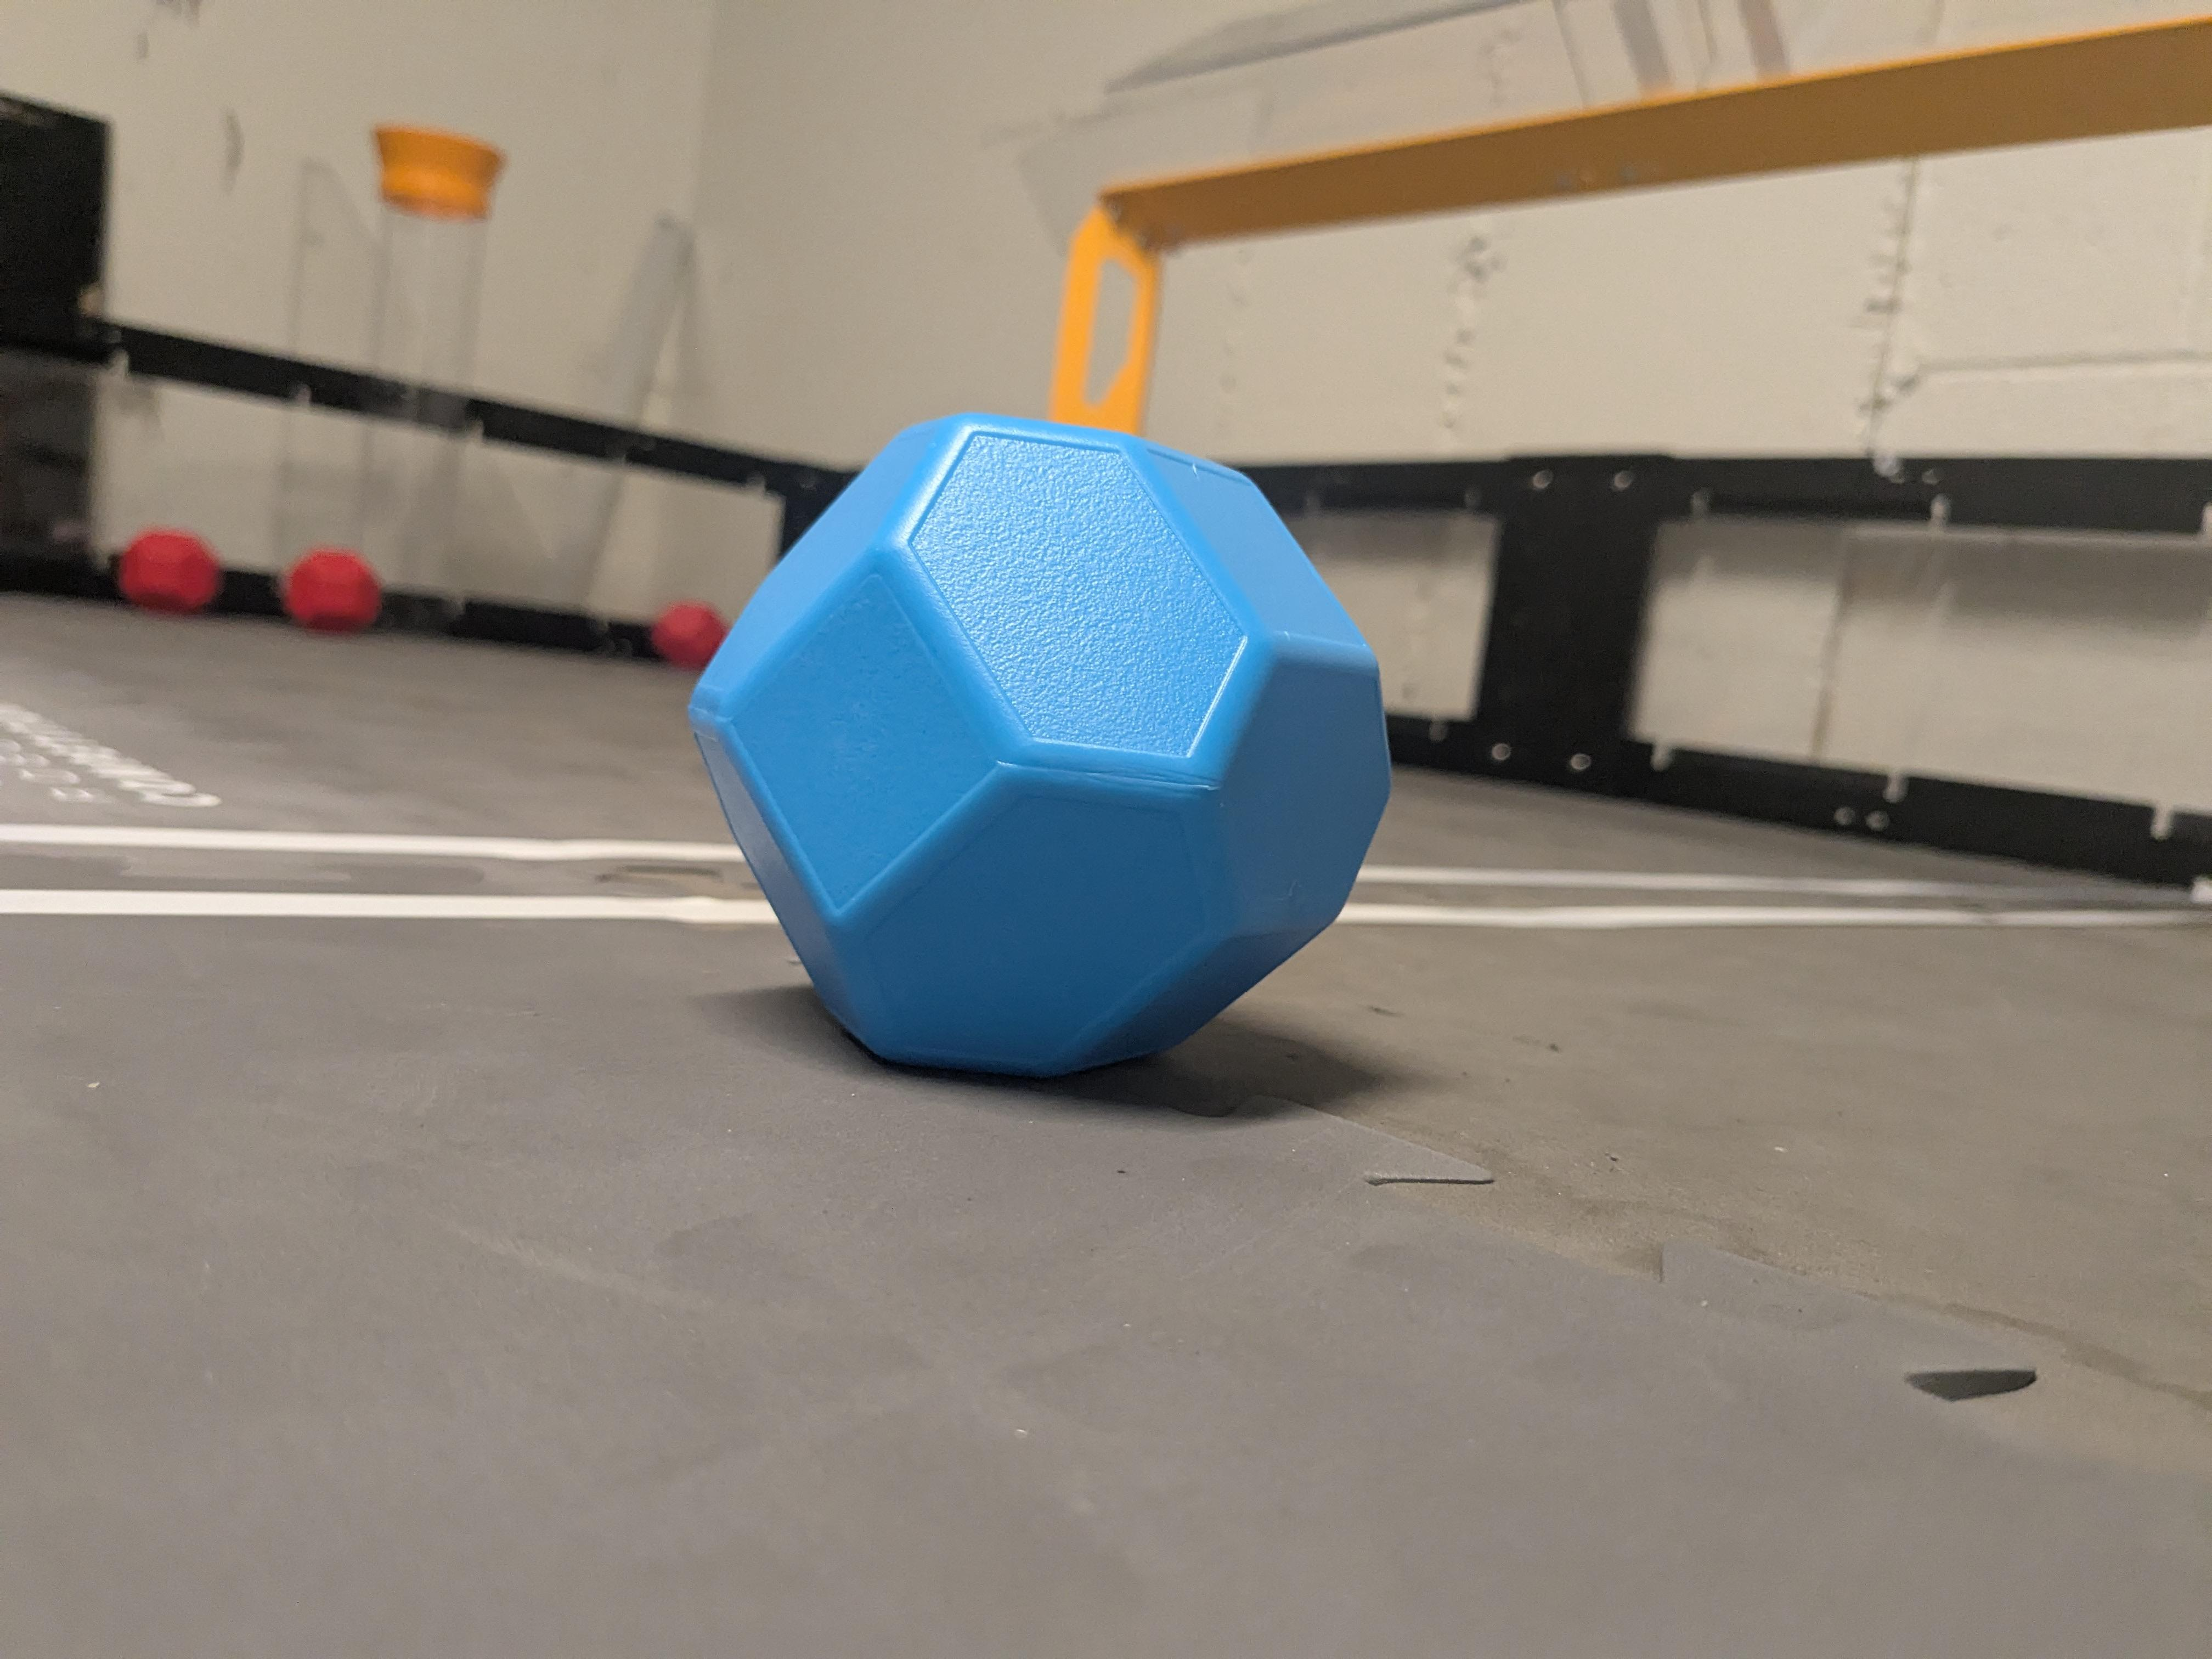Vex-Pieces-BLUE: (686, 415, 1390, 1087)
